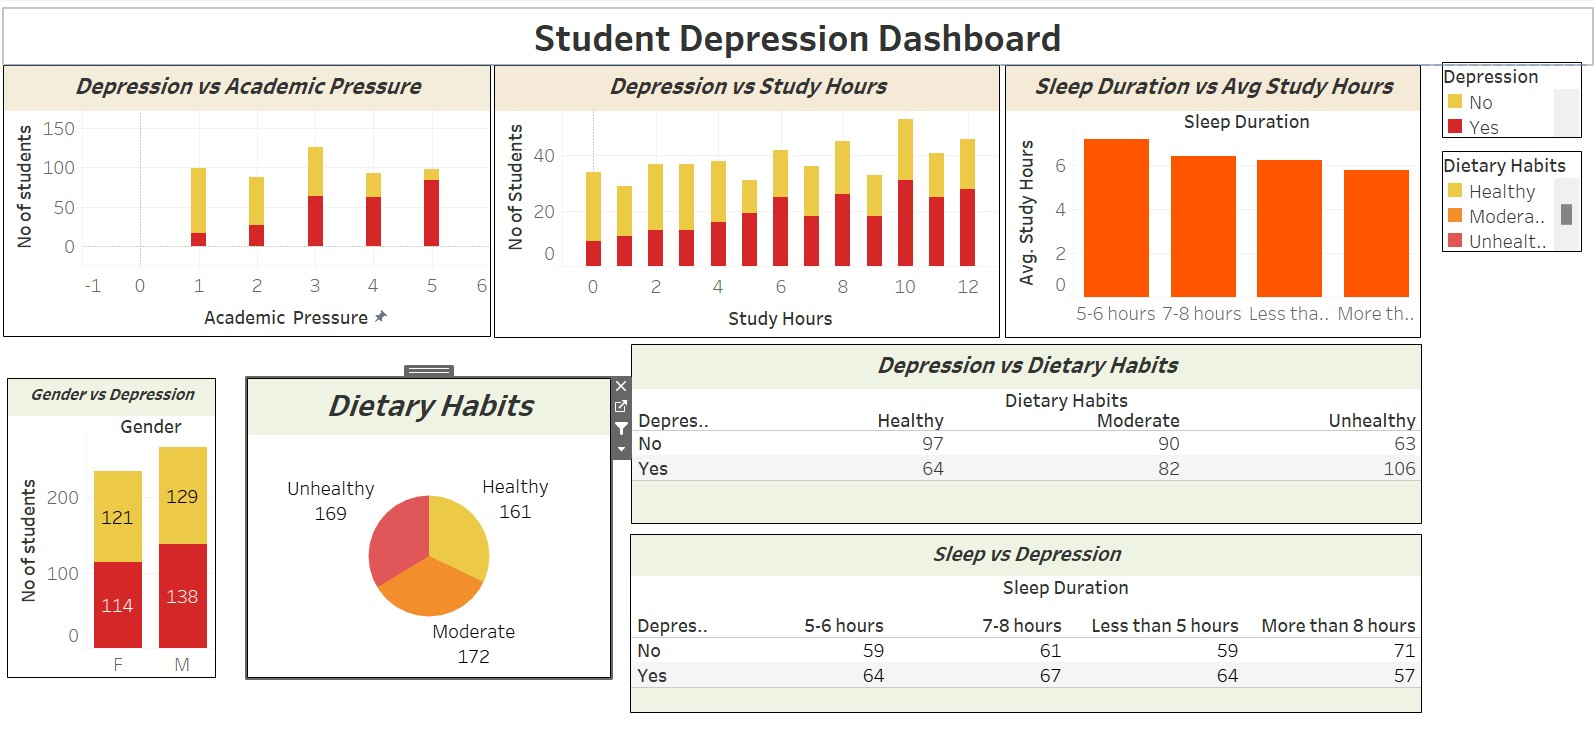

The page's visual inventory and layout, read from the dashboard file:
{"tool":"tableau","page":{"name":"Dashboard 1","canvas":[1000,1000],"units":"permille","ordinal":0},"visuals":[{"type":"title","box":[5,10.7,990,73.7]},{"type":"legend","title":"Depression vs Academic Pressure","param":"[federated.0ah0bof0rckaex13eu3qv0j9aixe].[none:Depression:nk]","box":[901.5,81.8,87.3,101.9]},{"type":"worksheet","title":"Depression vs Academic Pressure","mark":"Bar","rows":["Sheet1_CB453303ECDD4F5F866C1E3A43AE9098"],"cols":["Academic _Pressure"],"box":[4.4,85.8,304.2,364.6]},{"type":"worksheet","title":"Study Hours","mark":"Bar","rows":["Index"],"cols":["Study_Hours"],"box":[310.5,85.8,315.5,365.9]},{"type":"worksheet","title":"Sleep vs Study","mark":"Automatic","rows":["Study_Hours"],"cols":["Sleep_Duration"],"box":[629.1,85.8,259.4,365.9]},{"type":"legend","title":"Dietary Habits","param":"[federated.0ah0bof0rckaex13eu3qv0j9aixe].[none:Dietary_Habits:nk]","box":[901.5,201.1,87.3,135.4]},{"type":"worksheet","title":"Dietary vs Depression","mark":"Automatic","rows":["Depression"],"cols":["Dietary_Habits"],"box":[395.9,459.8,493.1,241.3]},{"type":"worksheet","title":"Gender vs Depression","mark":"Bar","rows":["Sheet1_CB453303ECDD4F5F866C1E3A43AE9098"],"cols":["Gender"],"box":[6.9,505.4,130.3,402.1]},{"type":"worksheet","title":"Dietary Habits","mark":"Pie","box":[156.5,505.4,226.9,402.1]},{"type":"worksheet","title":"Sleep vs Depression","mark":"Automatic","rows":["Depression"],"cols":["Sleep_Duration"],"box":[395.3,714.5,493.8,240]}]}

Visuals, with their boxes on the dashboard's canvas, which has no fixed pixel size, in thousandths of its width and height (x1, y1, x2, y2). These are canvas units, not pixel positions in the 1594x739 screenshot, which may show the page scaled, cropped or inside an application window:
title: select_region(5, 11, 995, 84)
"Depression vs Academic Pressure" legend: select_region(902, 82, 989, 184)
"Depression vs Academic Pressure" worksheet (Bar marks): select_region(4, 86, 309, 450)
"Study Hours" worksheet (Bar marks): select_region(310, 86, 626, 452)
"Sleep vs Study" worksheet: select_region(629, 86, 888, 452)
"Dietary Habits" legend: select_region(902, 201, 989, 336)
"Dietary vs Depression" worksheet: select_region(396, 460, 889, 701)
"Gender vs Depression" worksheet (Bar marks): select_region(7, 505, 137, 908)
"Dietary Habits" worksheet (Pie marks): select_region(156, 505, 383, 908)
"Sleep vs Depression" worksheet: select_region(395, 714, 889, 954)
